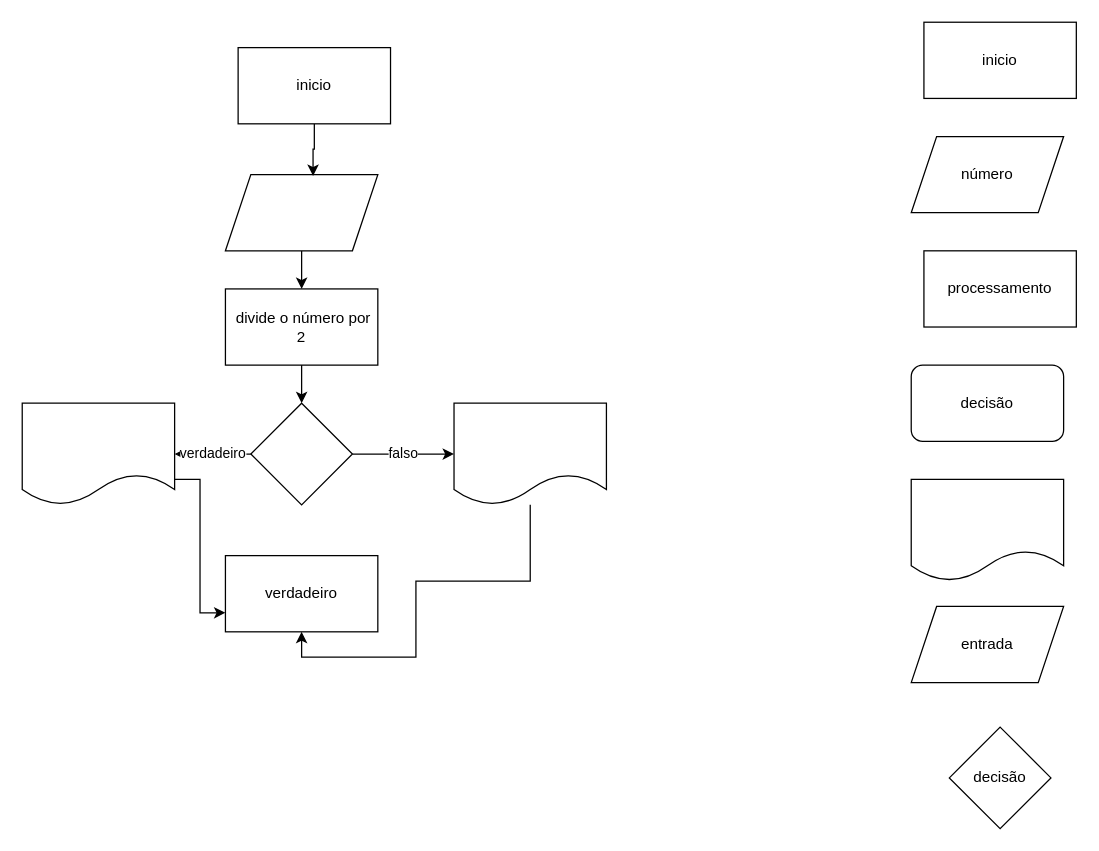
This 1099x851 diagram has some shape labels left out. Here are the shapes that lost their labels. From the top down, the box of each, then its label:
(224, 173, 378, 251): numero
(21, 402, 175, 505): é par
(250, 402, 352, 505): resto da divisão é zero
(453, 402, 606, 505): impar
(910, 478, 1064, 581): saida
